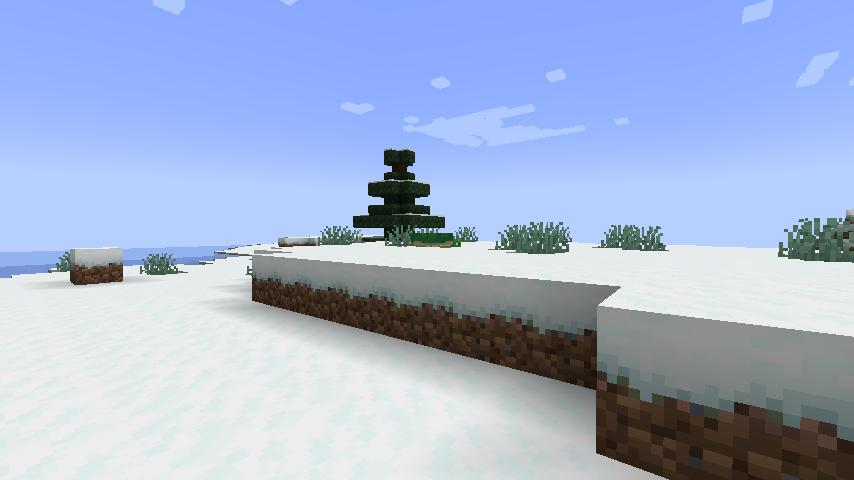turtle: (406, 228, 466, 249)
